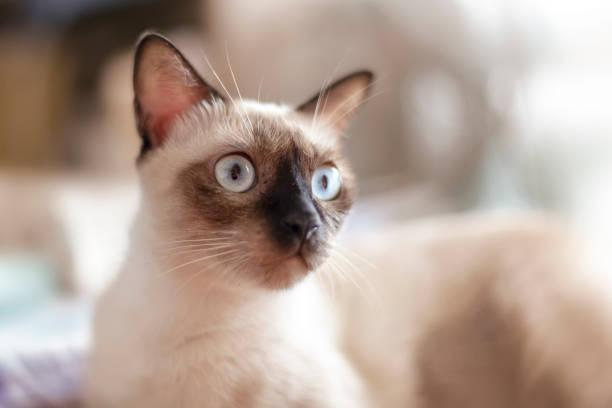siamese: (127, 28, 381, 307)
